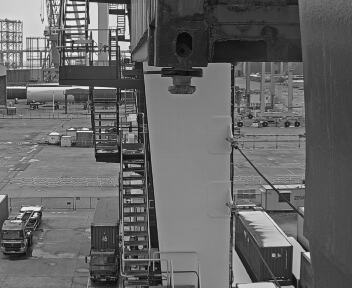twist_lock_1: (156, 58, 208, 102)
